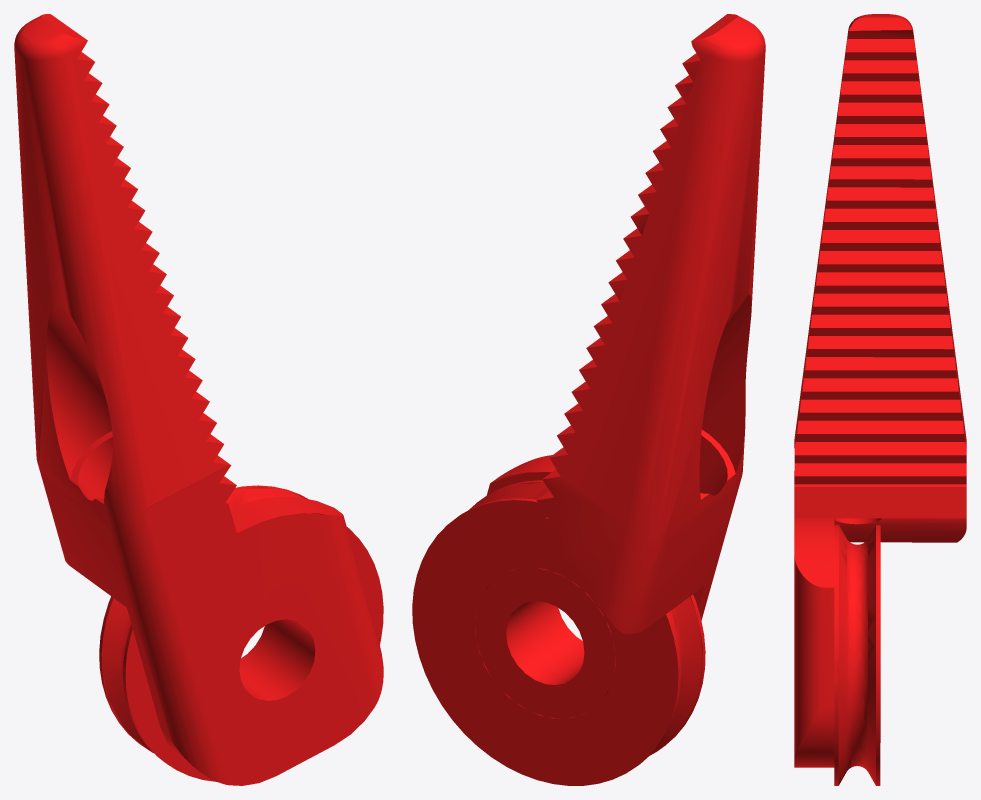
The model's file is grasper1_L.OBJ.
3 renders of one model, left to right at view 1: azimuth 30°, elevation 25°; view 2: azimuth 150°, elevation 25°; view 3: azimuth 270°, elevation 25°, orthographic. The views are drawn at different scales.
Parts seen in each view (by area): view 1: /ambf/env/raven_2/grasper1_L; view 2: /ambf/env/raven_2/grasper1_L; view 3: /ambf/env/raven_2/grasper1_L.
Boxes of the visible parts, <box> form: /ambf/env/raven_2/grasper1_L: <box>14,14,383,785</box>; /ambf/env/raven_2/grasper1_L: <box>412,14,765,785</box>; /ambf/env/raven_2/grasper1_L: <box>794,14,966,785</box>.
Bounding box in the file's own units: 0.0111 × 0.0244 × 0.00561.
